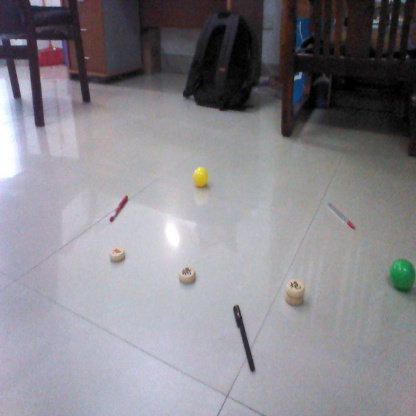ball: (387, 257, 414, 290), (189, 165, 211, 188)
chess: (285, 279, 308, 306), (179, 265, 201, 284), (110, 249, 125, 260)
pen: (230, 307, 258, 371), (330, 202, 357, 230), (110, 193, 128, 222)
